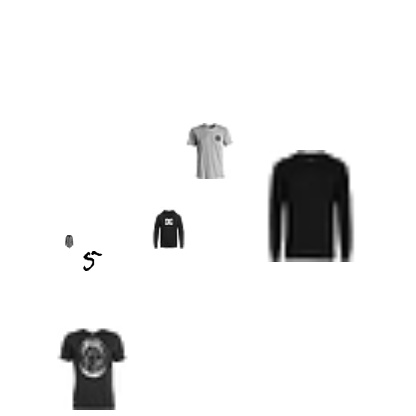5: (76, 245, 104, 273)
Coat: (62, 235, 76, 249)
Pullover: (253, 150, 365, 262), (147, 207, 189, 249)
T-shirt/top: (49, 326, 133, 410), (181, 123, 237, 179)
